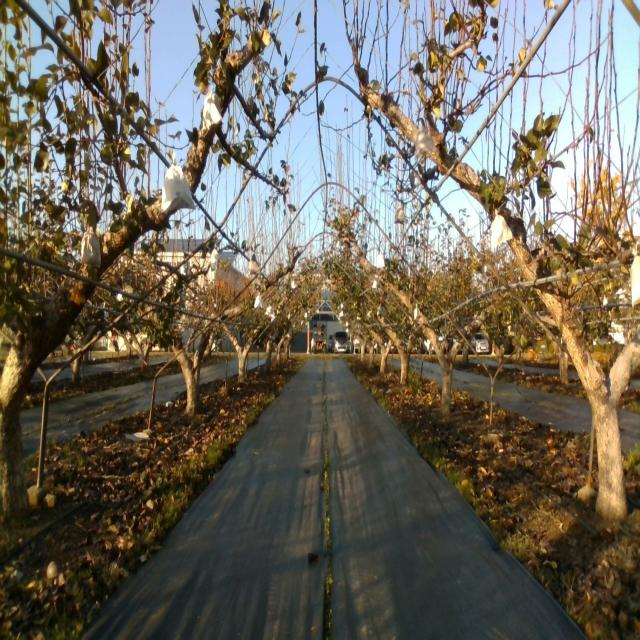pearbags: (162, 153, 195, 214), (491, 207, 513, 248), (80, 227, 100, 267), (203, 88, 223, 128), (414, 124, 436, 160), (394, 206, 406, 225)
